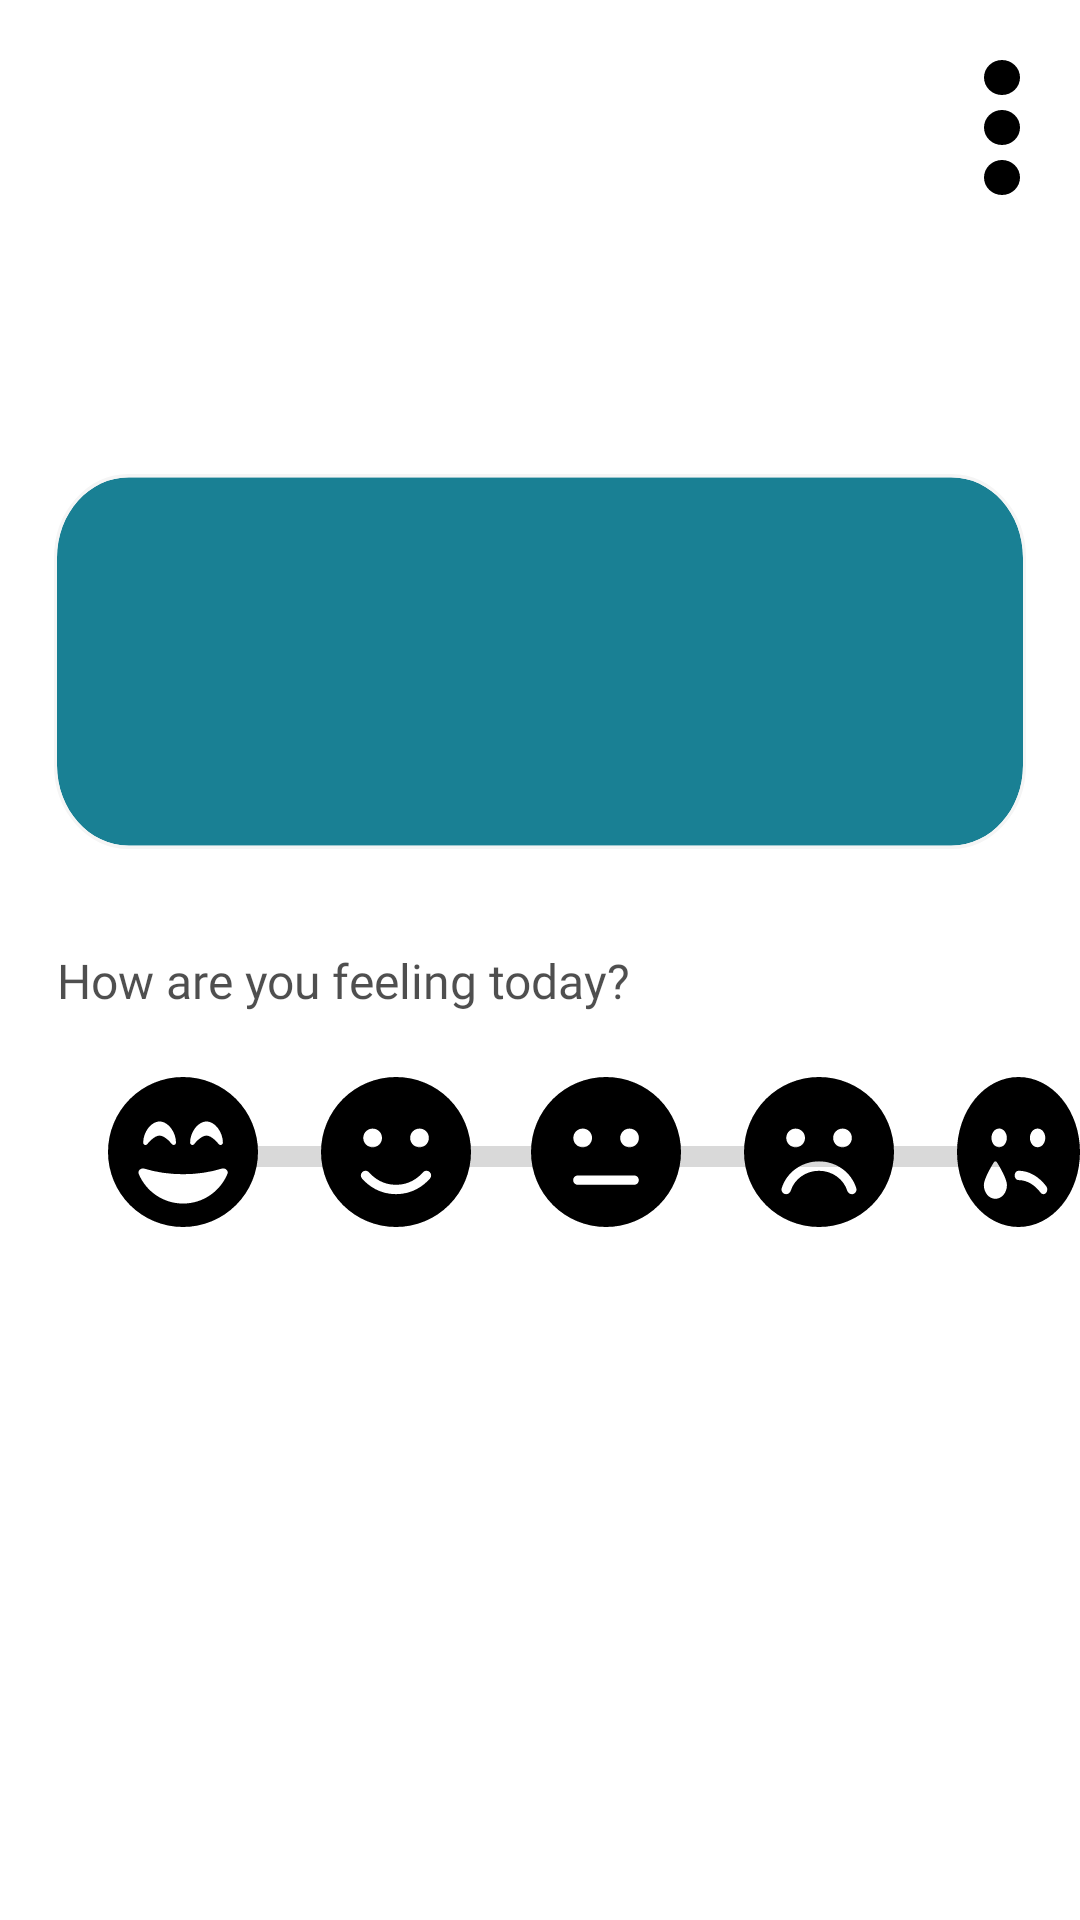

Named icons in this screenshot (1080*1920) and their centers, [x,y]:
depressed emoji: [1018,1152]
elated emoji: [183,1152]
happy emoji: [396,1152]
meh emoji: [606,1152]
menu: [1002,127]
sad emoji: [819,1152]
